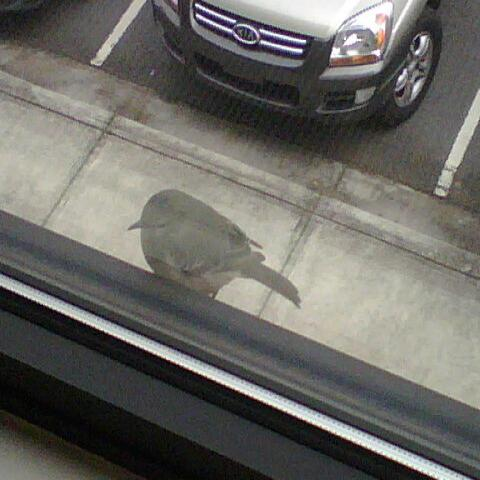car: (152, 0, 444, 128)
